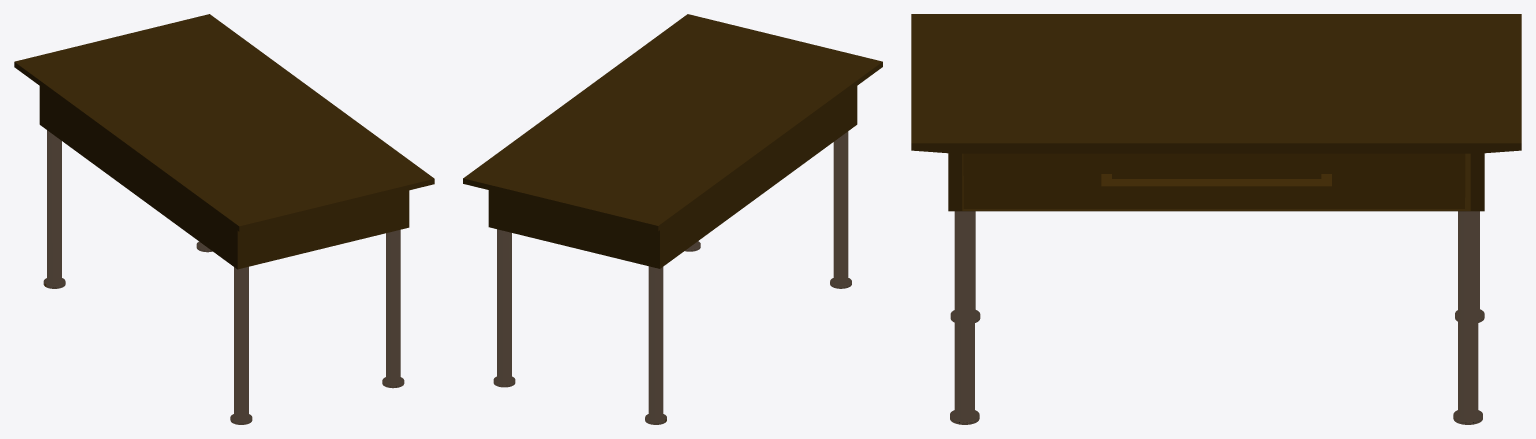
Rendered from Çekmeceli Sehpa & Çalışma Masası.fbx.
3 views of the same model, side by side, from view 1: azimuth 30°, elevation 25°; view 2: azimuth 150°, elevation 25°; view 3: azimuth 270°, elevation 25° (orthographic). The views are drawn at different scales.
Parts seen in each view (by area): view 1: Masa; view 2: Masa; view 3: Masa, Çekmecesi.
Boxes of the visible parts, bbox=[...] form: Masa: bbox=[14, 14, 434, 424]; Masa: bbox=[463, 14, 882, 424]; Masa: bbox=[911, 14, 1521, 424]; Çekmecesi: bbox=[963, 153, 1465, 208].
Bounding box in the file's own units: 232 × 238 × 454.
